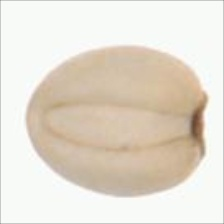L5: (42, 99, 190, 153), (15, 86, 45, 159), (190, 89, 210, 162)
L6: (23, 44, 211, 196)
